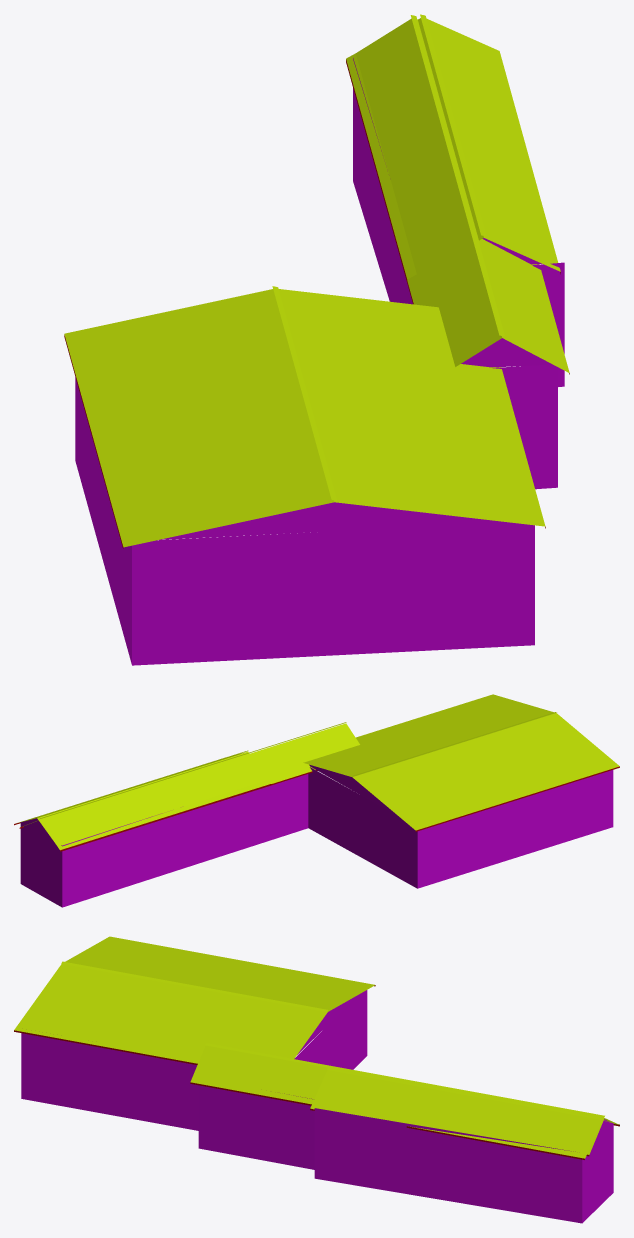
File: niv_39.glb
The picture shows the model from 3 angles, top to bottom: view 1: azimuth 30°, elevation 25°; view 2: azimuth 150°, elevation 25°; view 3: azimuth 270°, elevation 25°; orthographic projection. The views are drawn at different scales.
Visible parts, largest first — view 1: niv_39; view 2: niv_39; view 3: niv_39.
Boxes of the visible parts, x1,y1,x2,y2 form: niv_39: (64, 14, 569, 665); niv_39: (14, 694, 619, 907); niv_39: (14, 936, 619, 1223).
Bounding box in the file's own units: 37.6 × 7.23 × 43.68.
